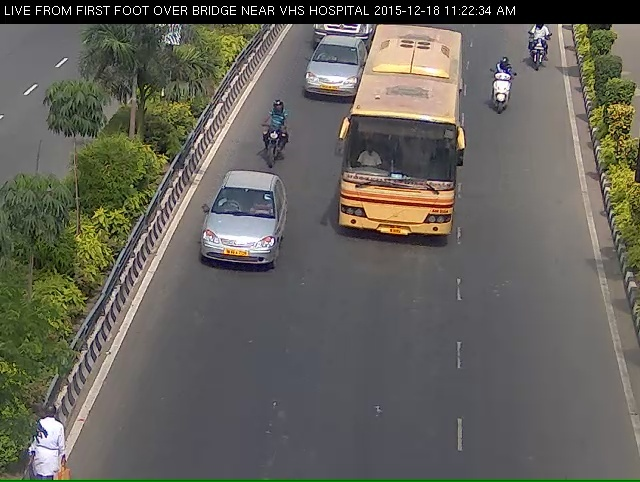Bus: (329, 32, 469, 266), (304, 22, 368, 49)
Car: (191, 181, 284, 306), (293, 41, 356, 106)
Person: (248, 105, 285, 185), (521, 22, 556, 76), (486, 64, 512, 127)
